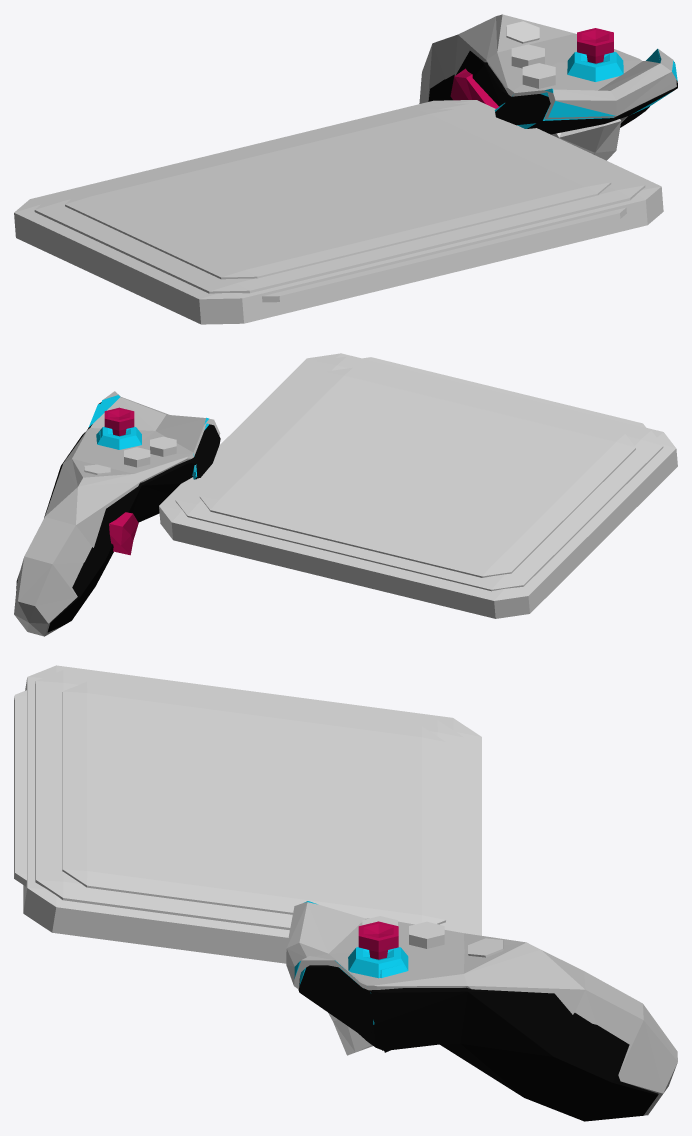
File: Controller.fbx
3 renders of one model, top to bottom at view 1: azimuth 30°, elevation 25°; view 2: azimuth 150°, elevation 25°; view 3: azimuth 270°, elevation 25°, orthographic. The views are drawn at different scales.
Visible parts, largest first — view 1: imagetostl_mesh5, imagetostl_mesh4, imagetostl_mesh7, imagetostl_mesh11, imagetostl_mesh12, imagetostl_mesh6, imagetostl_mesh0, imagetostl_mesh9, imagetostl_mesh10, imagetostl_mesh1, imagetostl_mesh2, imagetostl_mesh3; view 2: imagetostl_mesh5, imagetostl_mesh4, imagetostl_mesh11, imagetostl_mesh7, imagetostl_mesh12, imagetostl_mesh6, imagetostl_mesh10, imagetostl_mesh9, imagetostl_mesh2, imagetostl_mesh1; view 3: imagetostl_mesh5, imagetostl_mesh12, imagetostl_mesh11, imagetostl_mesh7, imagetostl_mesh4, imagetostl_mesh6, imagetostl_mesh9, imagetostl_mesh2, imagetostl_mesh0.
Part boxes in pixels (bbox=[...]): imagetostl_mesh5: bbox=[65, 109, 611, 279]; imagetostl_mesh4: bbox=[14, 100, 663, 324]; imagetostl_mesh7: bbox=[34, 103, 645, 293]; imagetostl_mesh11: bbox=[419, 14, 676, 122]; imagetostl_mesh12: bbox=[428, 51, 677, 134]; imagetostl_mesh6: bbox=[262, 207, 626, 302]; imagetostl_mesh0: bbox=[551, 119, 621, 160]; imagetostl_mesh9: bbox=[577, 28, 613, 63]; imagetostl_mesh10: bbox=[450, 68, 498, 108]; imagetostl_mesh1: bbox=[522, 63, 555, 88]; imagetostl_mesh2: bbox=[511, 44, 544, 68]; imagetostl_mesh3: bbox=[506, 21, 539, 43]; imagetostl_mesh5: bbox=[199, 367, 635, 577]; imagetostl_mesh4: bbox=[159, 353, 677, 618]; imagetostl_mesh11: bbox=[14, 391, 220, 636]; imagetostl_mesh7: bbox=[175, 356, 663, 591]; imagetostl_mesh12: bbox=[16, 402, 220, 632]; imagetostl_mesh6: bbox=[362, 357, 645, 427]; imagetostl_mesh10: bbox=[109, 512, 138, 555]; imagetostl_mesh9: bbox=[104, 407, 134, 436]; imagetostl_mesh2: bbox=[124, 447, 150, 467]; imagetostl_mesh1: bbox=[150, 436, 176, 456]; imagetostl_mesh5: bbox=[62, 681, 446, 924]; imagetostl_mesh12: bbox=[298, 964, 658, 1121]; imagetostl_mesh11: bbox=[286, 901, 677, 1115]; imagetostl_mesh7: bbox=[35, 670, 464, 933]; imagetostl_mesh4: bbox=[23, 665, 481, 963]; imagetostl_mesh6: bbox=[14, 690, 26, 886]; imagetostl_mesh9: bbox=[358, 921, 398, 959]; imagetostl_mesh2: bbox=[409, 921, 444, 948]; imagetostl_mesh0: bbox=[328, 1012, 372, 1055].
Bounding box in the file's own units: 2172205 × 627609 × 1968812.
